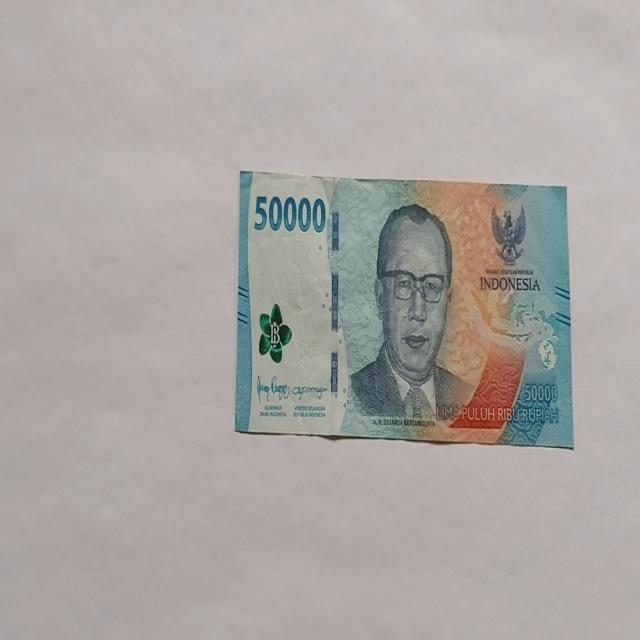lima puluh ribu rupiah: (233, 169, 572, 447), (340, 202, 478, 436)
